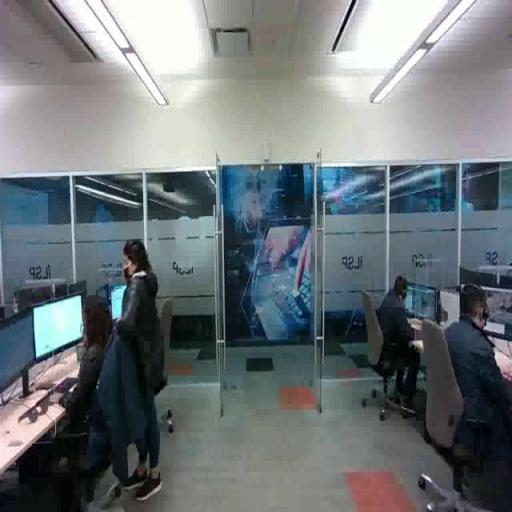person: (121, 237, 169, 504)
